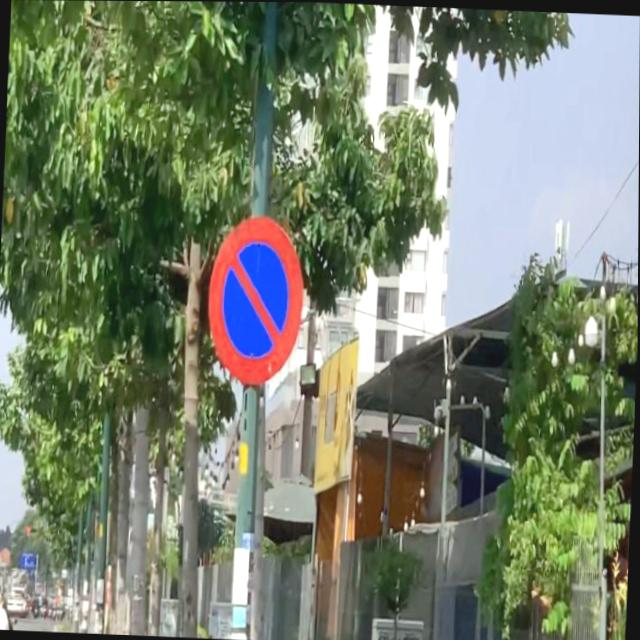Cam do xe: (203, 215, 306, 392)
